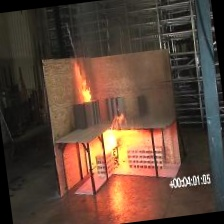fire: (98, 119, 142, 178), (67, 62, 101, 112)
